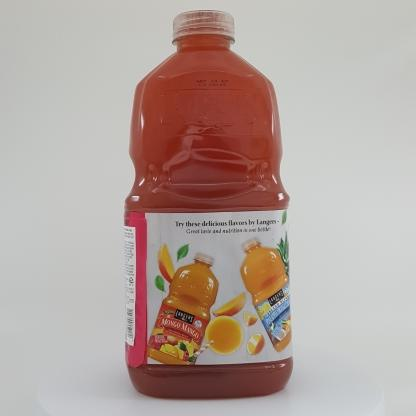-----------1-89L: (123, 10, 293, 399)
